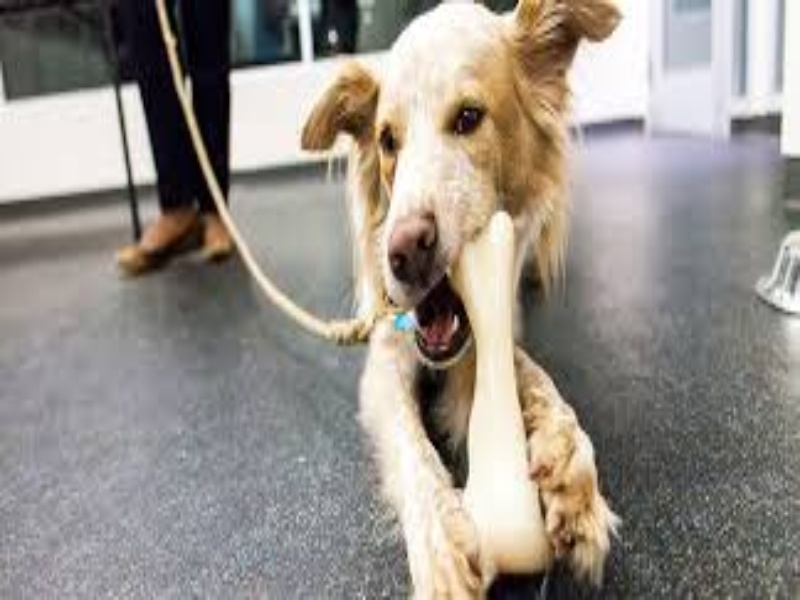dog: (229, 10, 738, 568)
